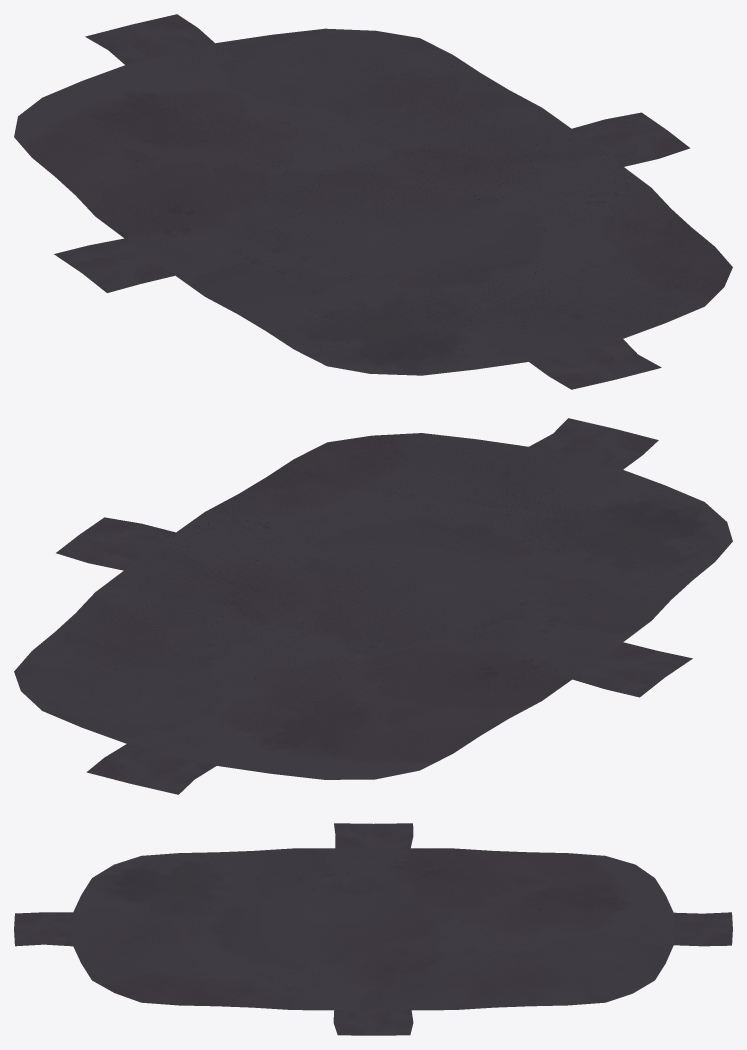
The model's file is long_plane.fbx.
3 views of the same model, one above another, from view 1: azimuth 30°, elevation 25°; view 2: azimuth 150°, elevation 25°; view 3: azimuth 270°, elevation 25° (orthographic). The views are drawn at different scales.
Parts seen in each view (by area): view 1: Long Ground, Long Ground.004, Long Ground.001, Long Ground.003, Long Ground.002; view 2: Long Ground, Long Ground.004, Long Ground.001, Long Ground.003, Long Ground.002; view 3: Long Ground, Long Ground.004, Long Ground.002, Long Ground.001, Long Ground.003.
Boxes of the visible parts, bbox=[...] form: Long Ground: bbox=[14, 28, 732, 375]; Long Ground.004: bbox=[572, 112, 689, 166]; Long Ground.001: bbox=[529, 339, 661, 389]; Long Ground.003: bbox=[85, 14, 214, 64]; Long Ground.002: bbox=[54, 238, 174, 292]; Long Ground: bbox=[14, 433, 732, 779]; Long Ground.004: bbox=[56, 517, 175, 570]; Long Ground.001: bbox=[529, 418, 658, 469]; Long Ground.003: bbox=[86, 744, 216, 794]; Long Ground.002: bbox=[572, 642, 692, 697]; Long Ground: bbox=[72, 848, 674, 1010]; Long Ground.004: bbox=[333, 1010, 413, 1035]; Long Ground.002: bbox=[334, 823, 413, 848]; Long Ground.001: bbox=[14, 912, 73, 946]; Long Ground.003: bbox=[673, 912, 732, 946].
Bounding box in the file's own units: 2336 × 0.000544 × 3340.
